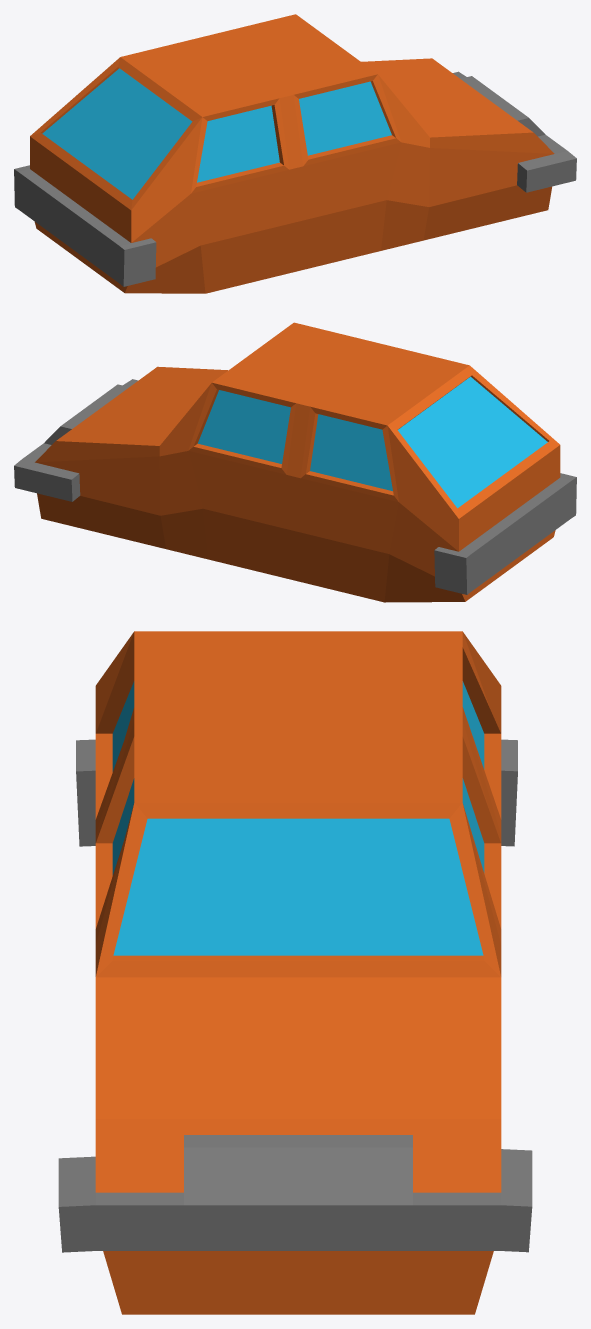
File: aut.fbx
The picture shows the model from 3 angles, top to bottom: view 1: azimuth 30°, elevation 25°; view 2: azimuth 150°, elevation 25°; view 3: azimuth 270°, elevation 25°; orthographic projection. The views are drawn at different scales.
Visible parts, largest first — view 1: Cube; view 2: Cube; view 3: Cube.
Boxes of the visible parts, x1,y1,x2,y2 form: Cube: (14, 14, 576, 293); Cube: (14, 322, 576, 602); Cube: (58, 631, 532, 1314).
Size of the model in its own units: 21112 by 7854 by 9662.
